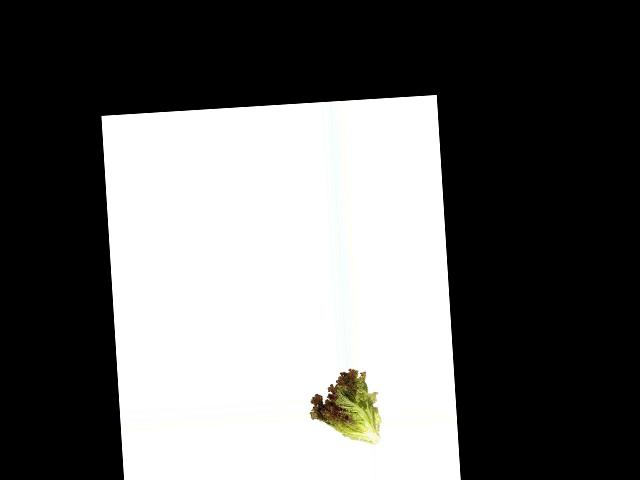lettuce: (308, 366, 381, 447)
